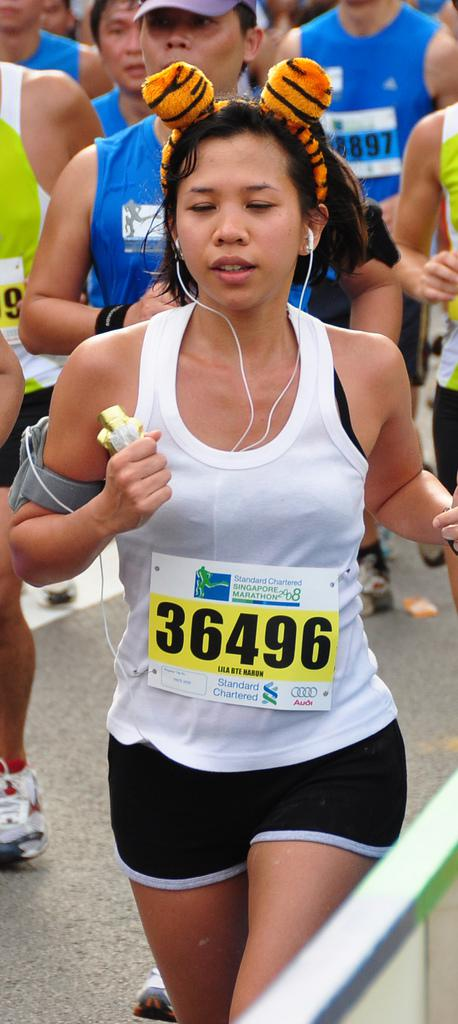Human_hand: (102, 429, 175, 533), (130, 281, 191, 324), (418, 248, 457, 303), (432, 487, 457, 551)
